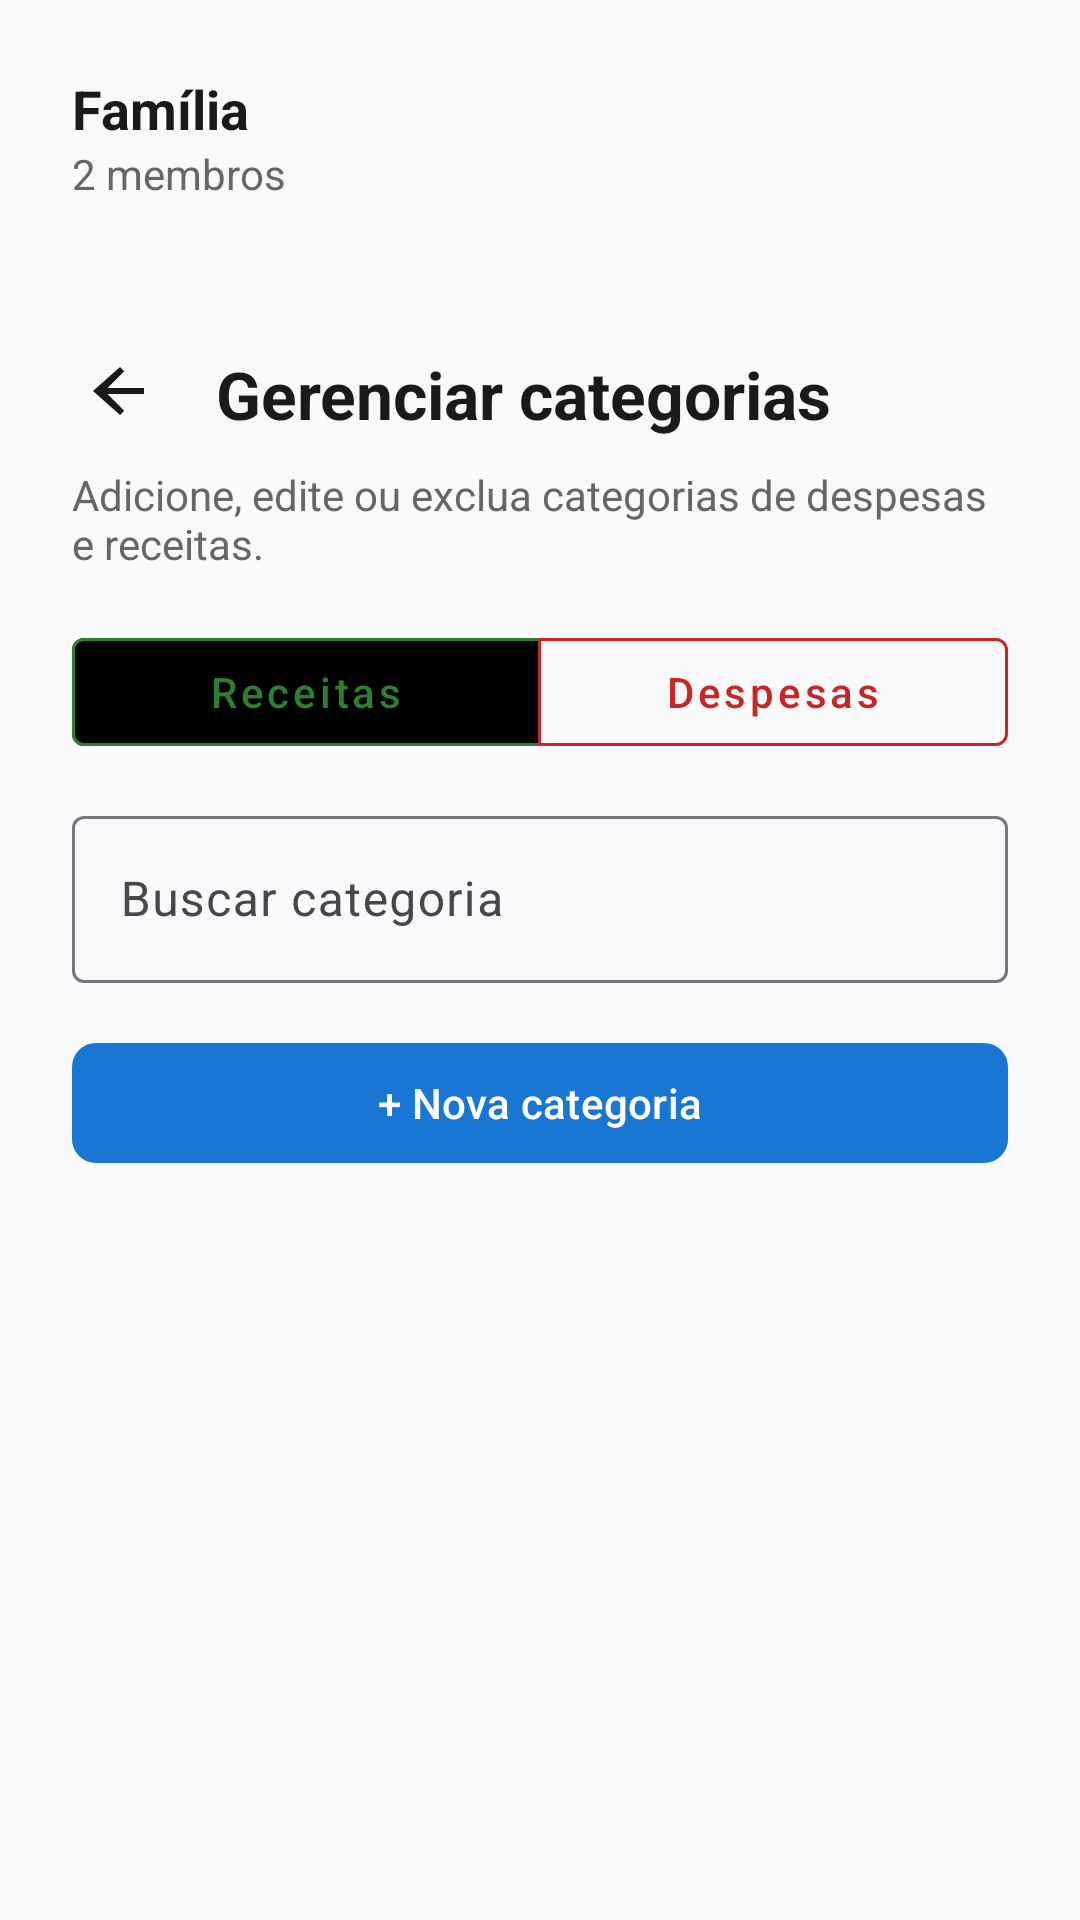

Screen size 1080×1920. Icon name, then its center in pixels as (x,y):
Voltar: (118,391)
